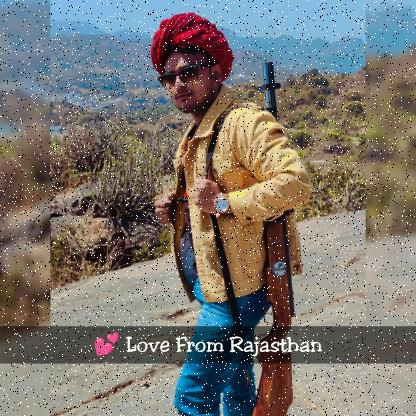rifle: (252, 60, 298, 416)
